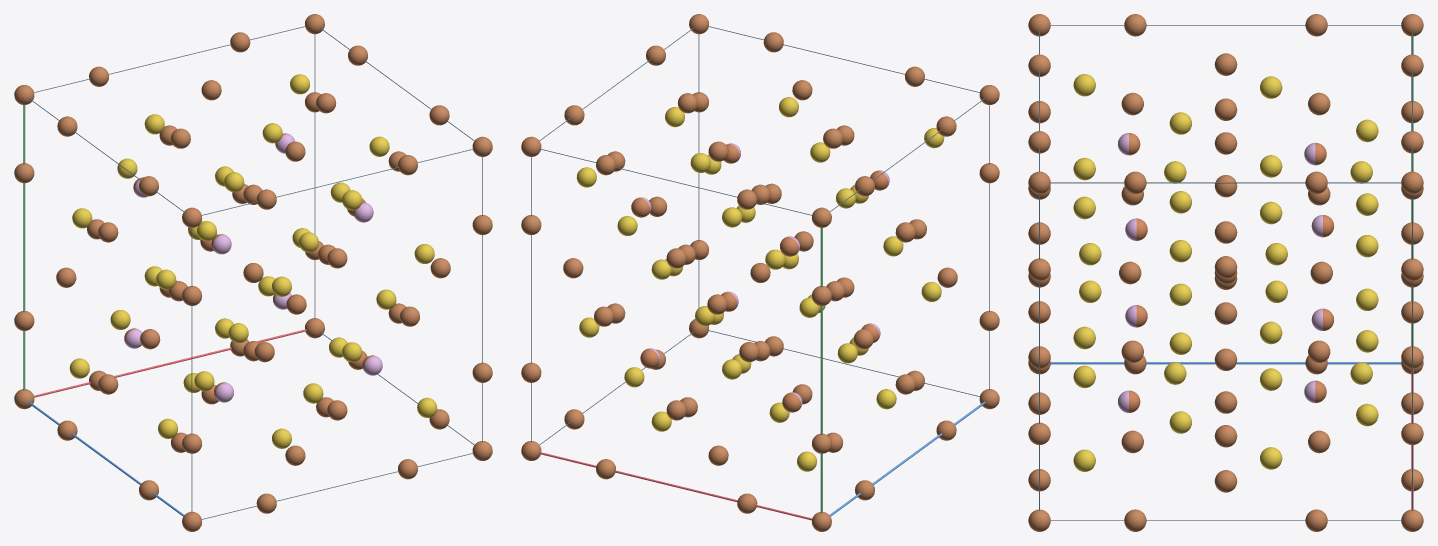
File: germanite.glb
The picture shows the model from 3 angles, left to right: view 1: azimuth 30°, elevation 25°; view 2: azimuth 150°, elevation 25°; view 3: azimuth 270°, elevation 25°; orthographic projection. The views are drawn at different scales.
Visible parts, largest first — view 1: Ô mạng và các trục a, b, c; view 2: Ô mạng và các trục a, b, c; view 3: Ô mạng và các trục a, b, c.
Part boxes in pixels (x1,y1,x2,y2): Ô mạng và các trục a, b, c: (23, 26, 482, 519); Ô mạng và các trục a, b, c: (531, 26, 989, 520); Ô mạng và các trục a, b, c: (1039, 25, 1413, 520).
Size of the model in its own units: 11.23 by 11.23 by 11.23.
